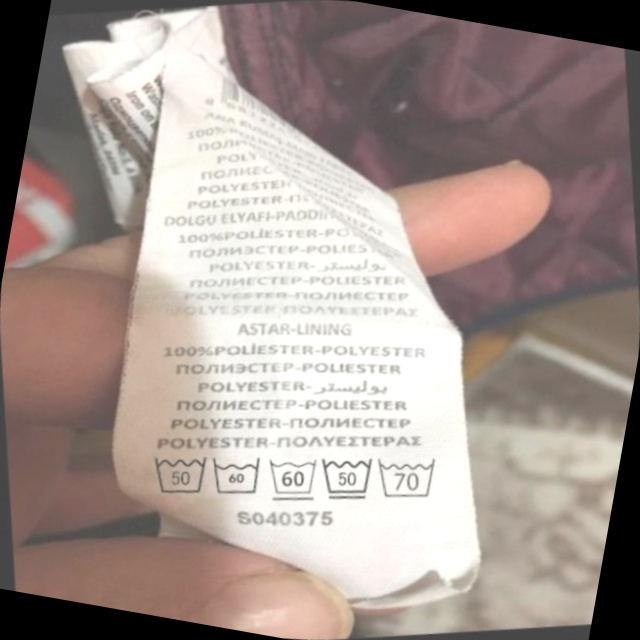50C: (138, 435, 222, 512), (310, 442, 387, 515)
60C: (258, 442, 332, 513), (201, 442, 275, 511)
70C: (368, 441, 453, 514)
